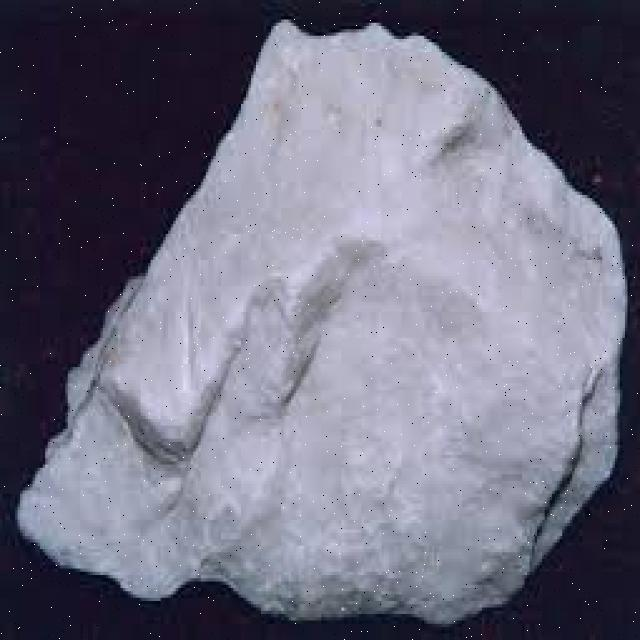Metamorphic: (10, 19, 627, 637)
